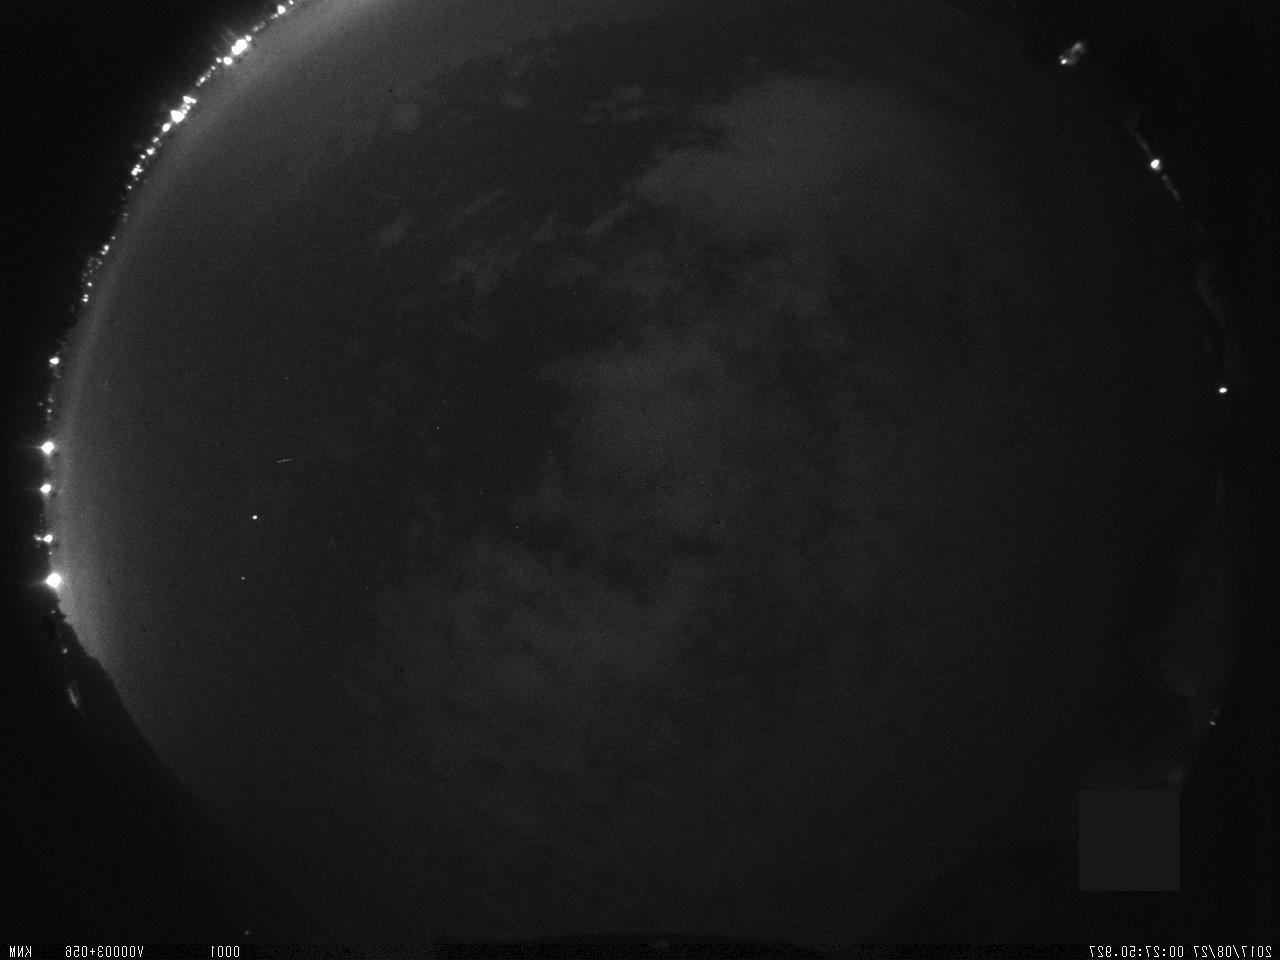meteor: (266, 451, 303, 468)
